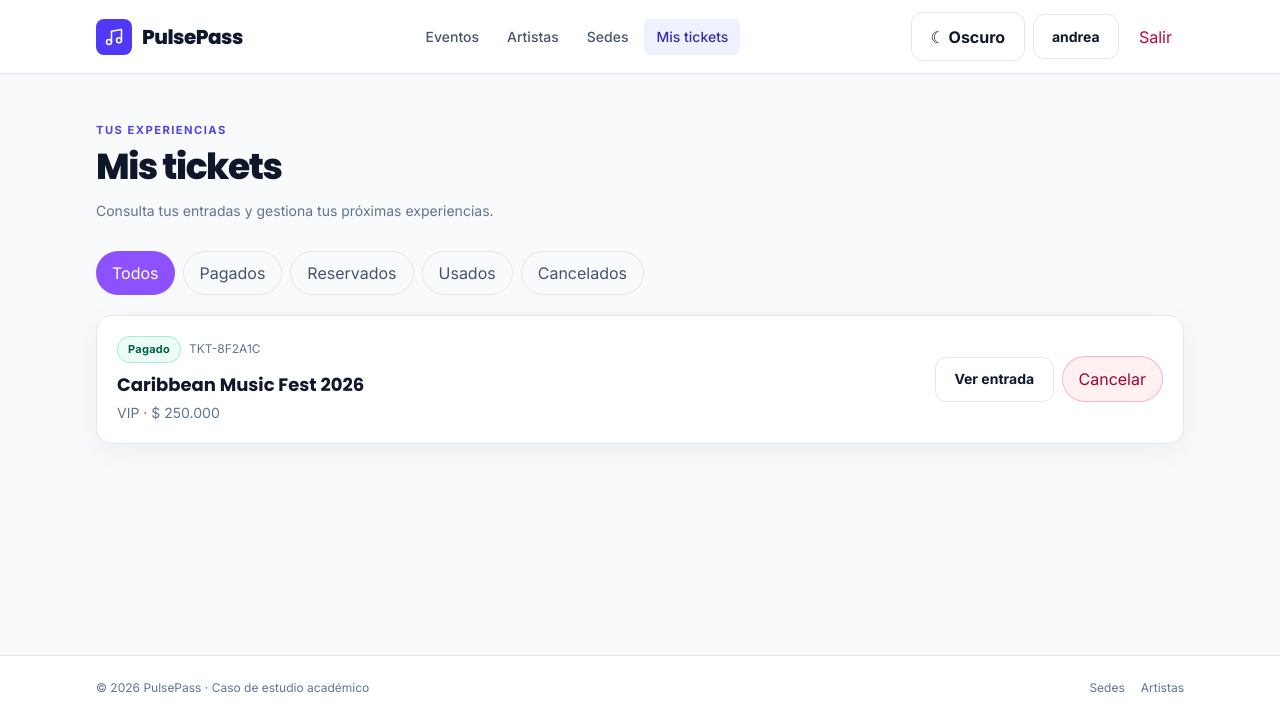
Test: mis tickets › un 409 al cancelar muestra el mensaje y mantiene el modal abierto
Step 1. Click the button "Cancelar" → {"x": 1112, "y": 379}, box [1062,356,1163,402]
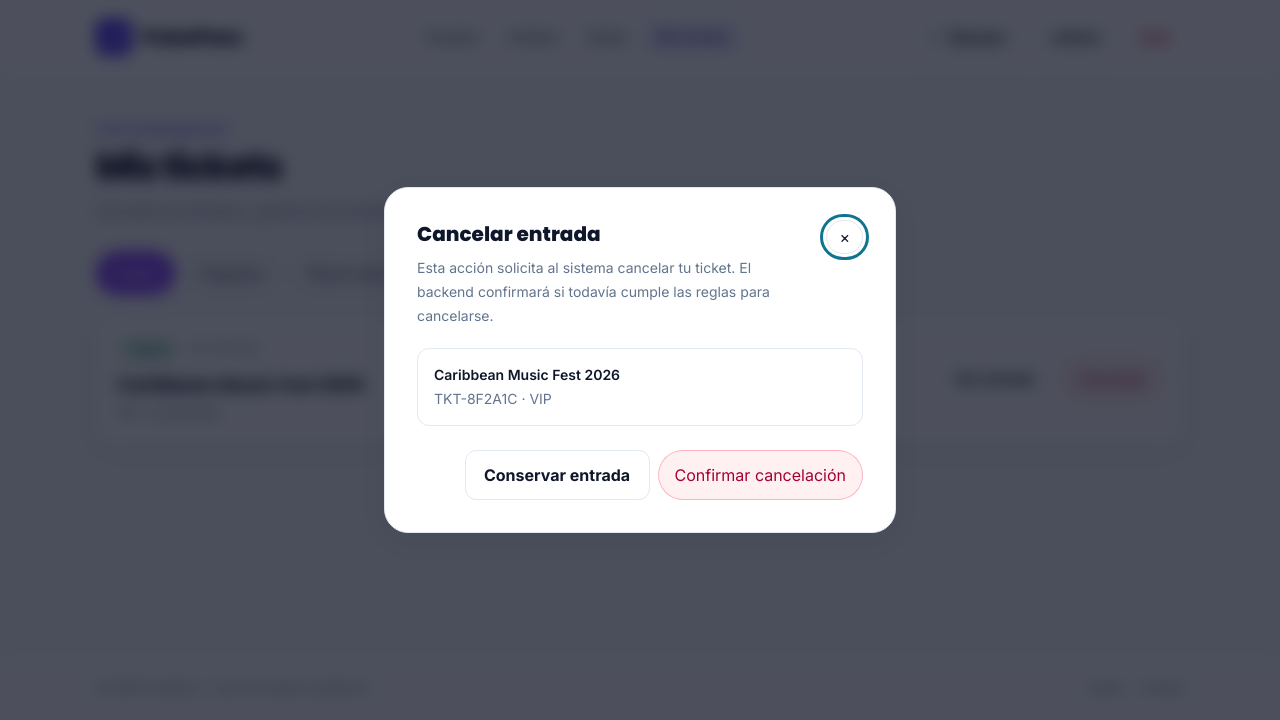
Step 2. Click the button "Confirmar cancelación" → {"x": 760, "y": 475}, box [658,450,863,500]
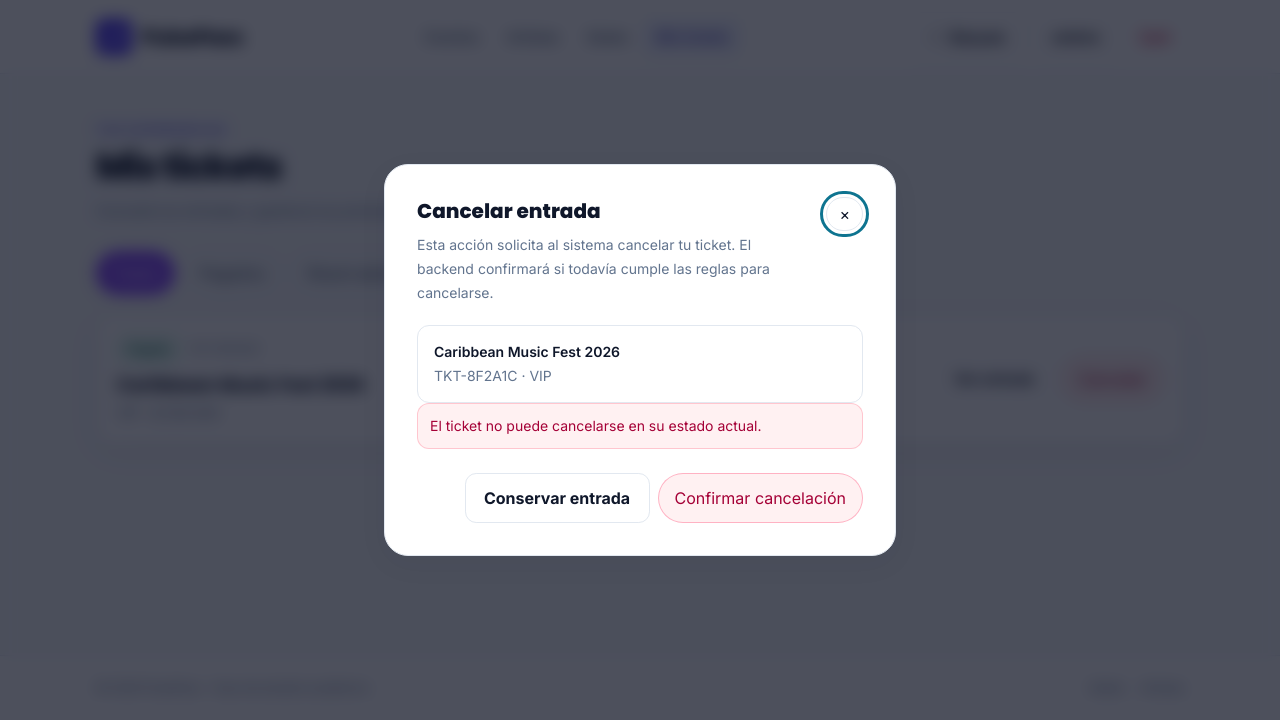
Expected: the dialog "Cancelar entrada" is shown, [384,164,896,556]
Expected: the text "El ticket no puede cancelarse en su estado actual." is shown, [417,404,863,450]
